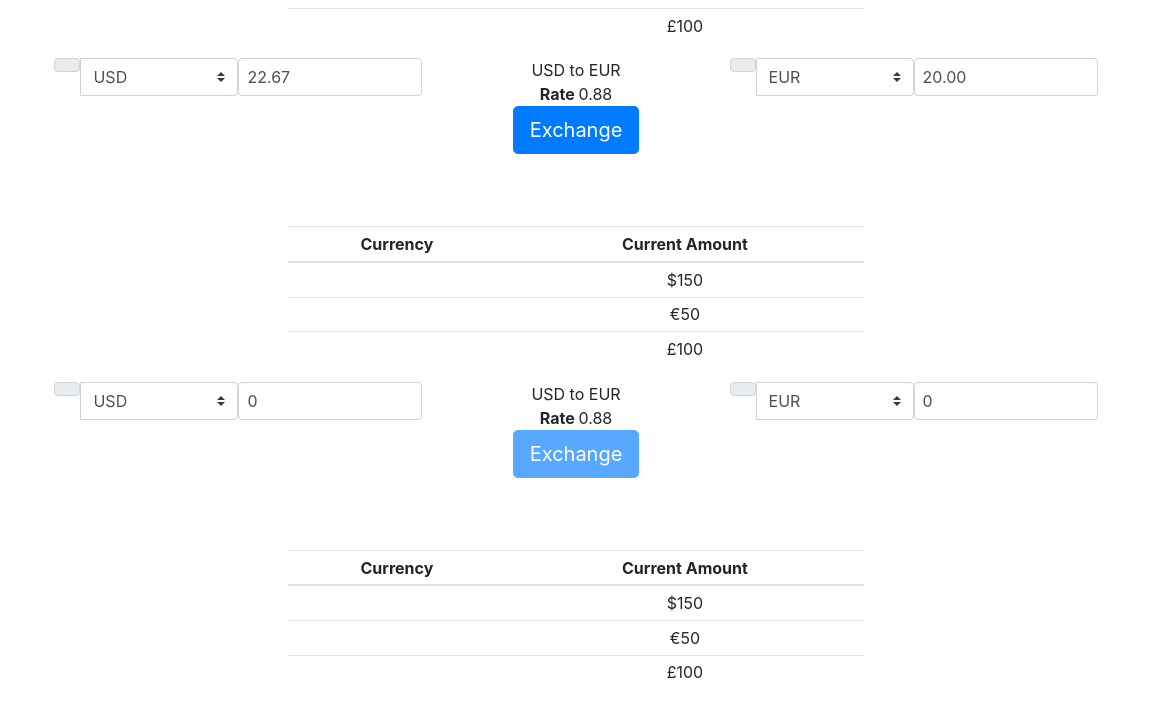
Test: after receiving data › sanitizes weird input
(page scrolled)
Replace the text in the 4th field with "=-338.39939020382083" at (1006, 401), box [914,382,1098,420]
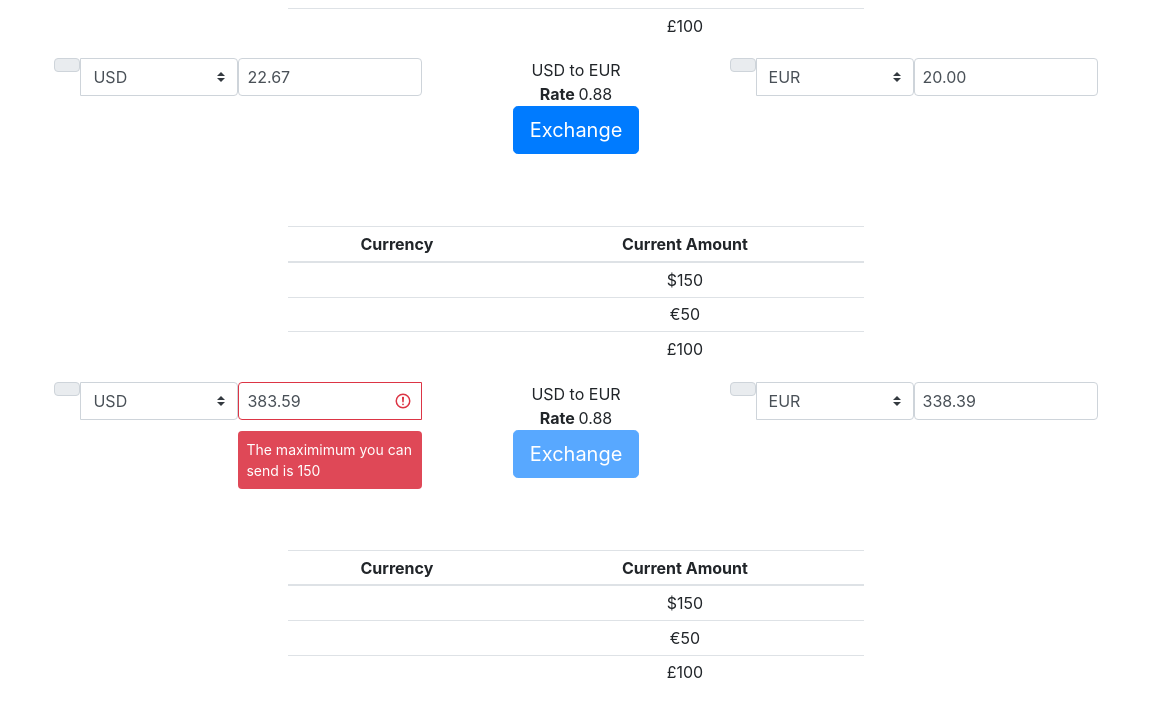
Check: the 3rd field holds "383.59", box [238,382,422,420]
Check: the 4th field holds "338.39", box [914,382,1098,420]
